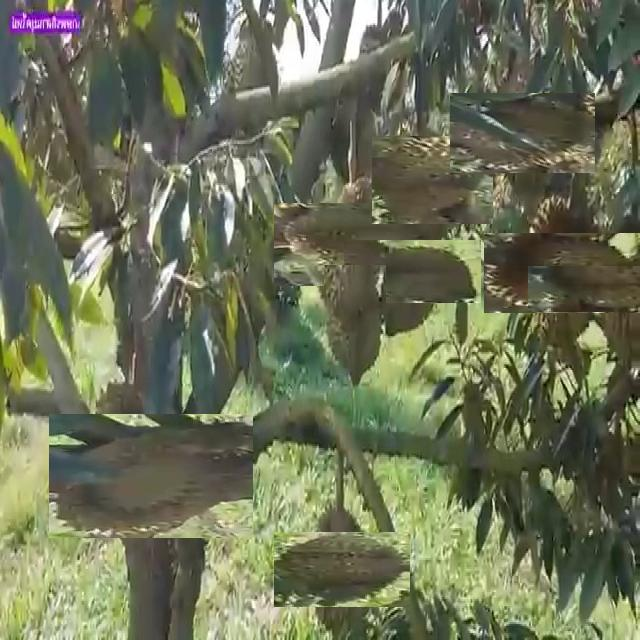durian: (69, 394, 233, 559), (292, 184, 413, 304), (503, 214, 622, 332), (466, 76, 580, 190), (289, 516, 395, 622), (380, 127, 485, 232), (362, 222, 463, 322), (562, 233, 640, 345), (324, 265, 386, 390)
